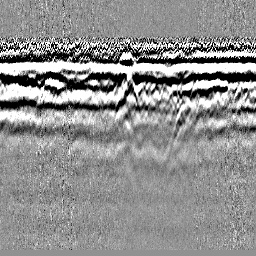cavity: (120, 74, 140, 105)
